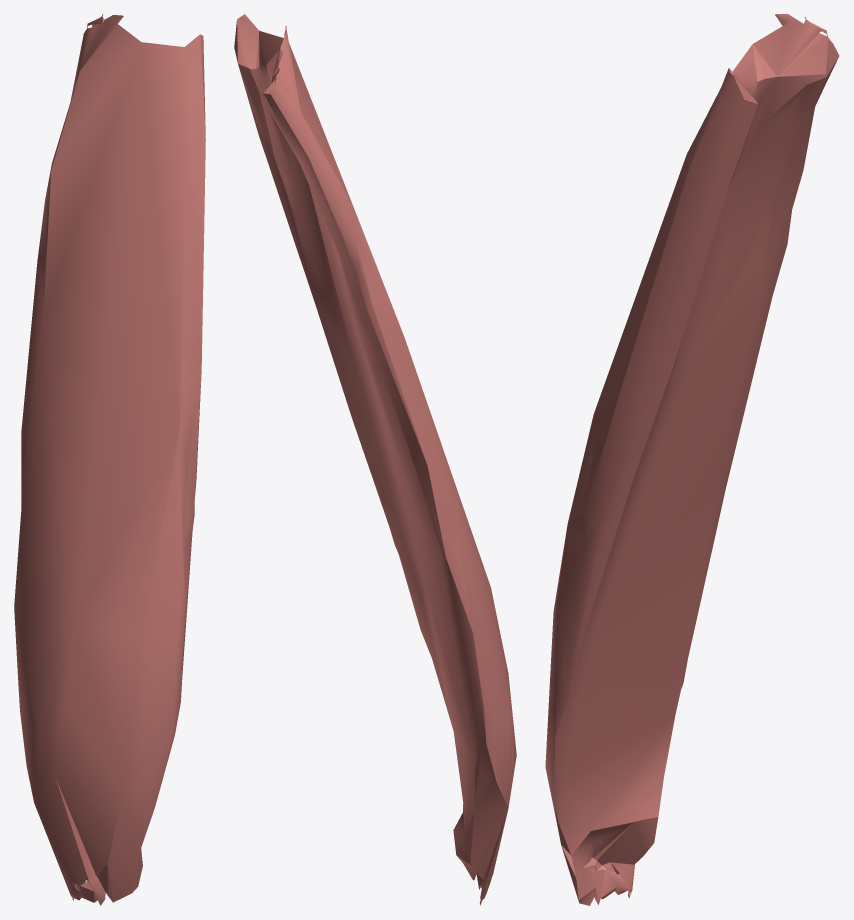
File: fma37397_fj1466m.glb
3 renders of one model, left to right at view 1: azimuth 30°, elevation 25°; view 2: azimuth 150°, elevation 25°; view 3: azimuth 270°, elevation 25°, orthographic. The views are drawn at different scales.
Visible parts, largest first — view 1: FMA37397_FJ1466M; view 2: FMA37397_FJ1466M; view 3: FMA37397_FJ1466M.
Boxes of the visible parts, left/top/right/bottom form: FMA37397_FJ1466M: left=14, top=14, right=205, bottom=905; FMA37397_FJ1466M: left=234, top=14, right=516, bottom=905; FMA37397_FJ1466M: left=545, top=14, right=839, bottom=905.
Bounding box in the file's own units: 0.0174 × 0.065 × 0.0183.
